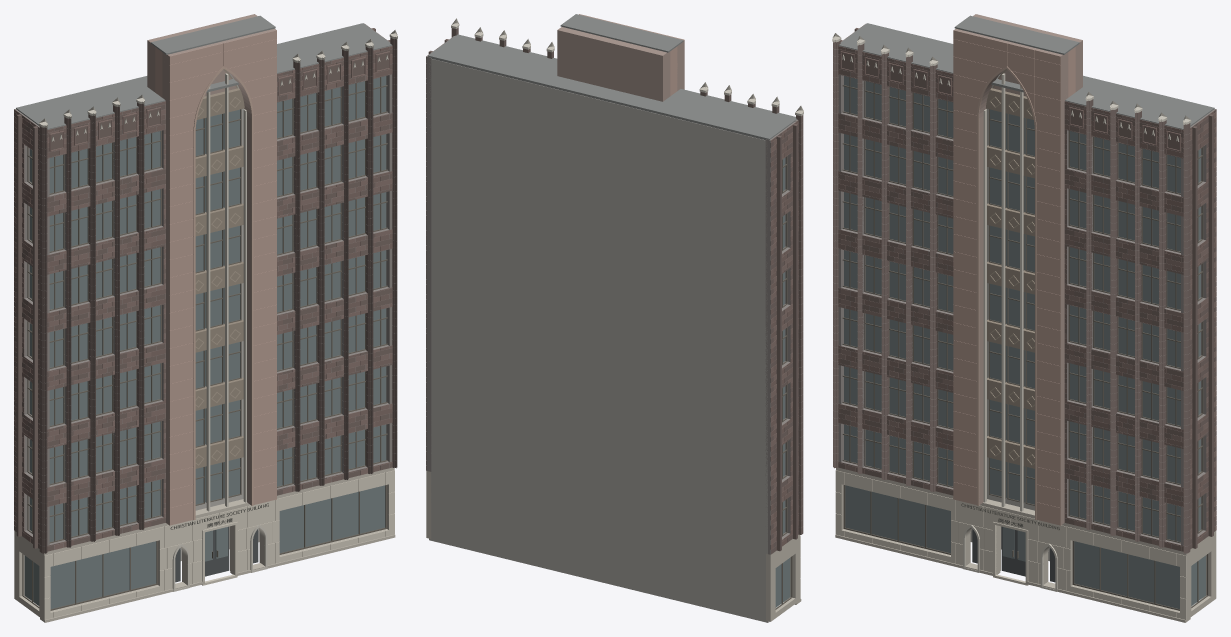
File: huangpu-christian-literature-building-lod.glb
The picture shows the model from 3 angles, left to right: view 1: azimuth 30°, elevation 25°; view 2: azimuth 150°, elevation 25°; view 3: azimuth 330°, elevation 25°; orthographic projection.
Visible parts, largest first — view 1: 广学大楼虎丘路西立面; view 2: 广学大楼虎丘路西立面; view 3: 广学大楼虎丘路西立面.
Boxes of the visible parts, x1,y1,x2,y2 form: 广学大楼虎丘路西立面: (14,14,397,622); 广学大楼虎丘路西立面: (426,14,803,622); 广学大楼虎丘路西立面: (832,14,1216,622).
Size of the model in its own units: 19.51 by 28.27 by 3.26.
